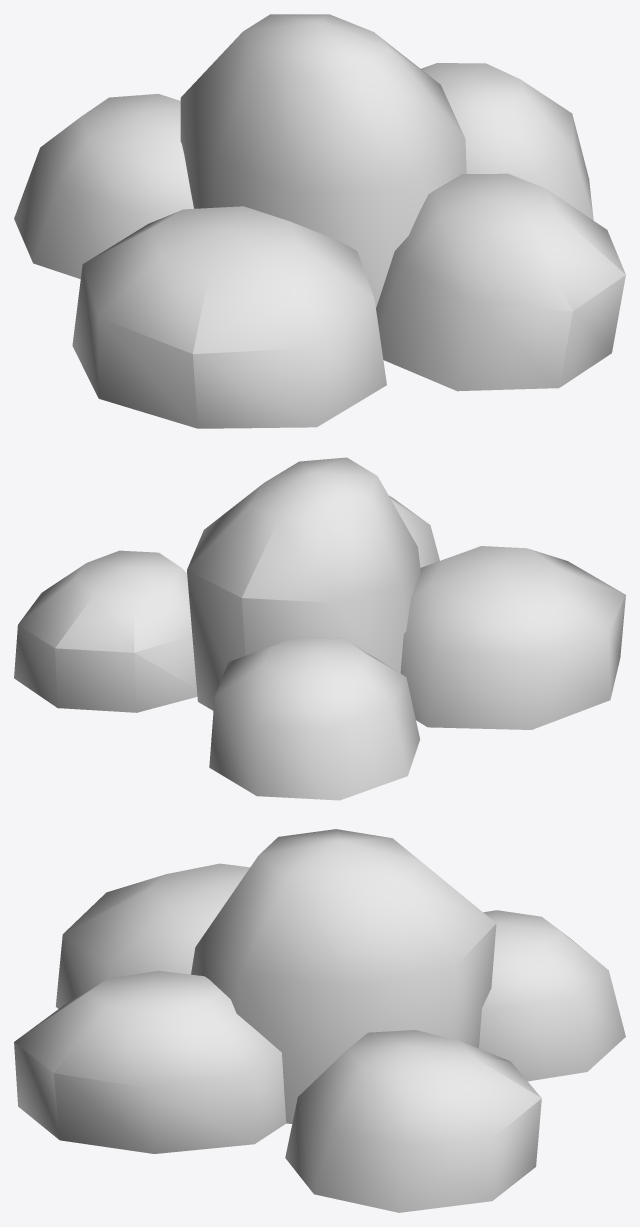
File: item_rm_gold_c.obj
The picture shows the model from 3 angles, top to bottom: view 1: azimuth 30°, elevation 25°; view 2: azimuth 150°, elevation 25°; view 3: azimuth 270°, elevation 25°; orthographic projection. The views are drawn at different scales.
Parts seen in each view (by area): view 1: part_000_gold, part_112_gold, part_028_gold, part_084_gold, part_056_gold; view 2: part_112_gold, part_000_gold, part_084_gold, part_056_gold, part_028_gold; view 3: part_112_gold, part_028_gold, part_056_gold, part_084_gold, part_000_gold.
Boxes of the visible parts, <box> form: part_000_gold: <box>72,206,386,428</box>; part_112_gold: <box>180,14,466,307</box>; part_028_gold: <box>376,173,625,391</box>; part_084_gold: <box>14,94,193,278</box>; part_056_gold: <box>421,63,593,220</box>; part_112_gold: <box>187,457,420,710</box>; part_000_gold: <box>400,546,625,729</box>; part_084_gold: <box>209,636,420,800</box>; part_056_gold: <box>14,550,197,712</box>; part_028_gold: <box>389,495,439,567</box>; part_112_gold: <box>191,829,496,1123</box>; part_028_gold: <box>14,970,286,1153</box>; part_056_gold: <box>285,1030,541,1212</box>; part_084_gold: <box>479,910,625,1081</box>; part_000_gold: <box>55,863,249,1008</box>.
Size of the model in its own units: 0.8886 by 0.365 by 0.8615.
